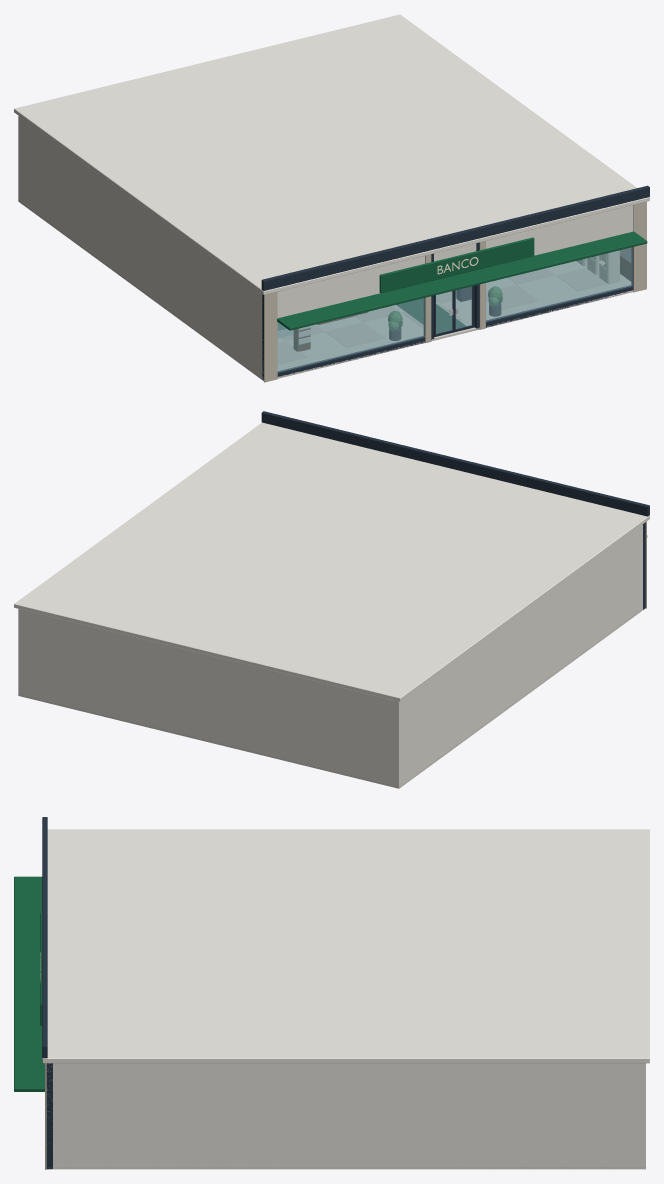
File: Local_Banco.fbx
3 renders of one model, top to bottom at view 1: azimuth 30°, elevation 25°; view 2: azimuth 150°, elevation 25°; view 3: azimuth 270°, elevation 25°, orthographic. The views are drawn at different scales.
Visible parts, largest first — view 1: Roof.001, WallSide.001, Floor, Storefront.001, Storefront, Canopy.001, Parapet.001, FloorTiles.001, StoreTop.001, StoreTop, SignBoard.001, Cladding (+7 smaller); view 2: Roof.001, WallBack.001, WallSide.001, Parapet.001, Floor; view 3: Roof.001, WallSide, Canopy.001, Floor, Parapet.001, Pillar, WallBack.001.
Boxes of the visible parts, bbox=[...] form: Roof.001: bbox=[14, 14, 649, 294]; WallSide.001: bbox=[18, 116, 263, 380]; Floor: bbox=[18, 200, 633, 380]; Storefront.001: bbox=[277, 298, 424, 372]; Storefront: bbox=[486, 247, 632, 321]; Canopy.001: bbox=[277, 231, 647, 330]; Parapet.001: bbox=[261, 185, 649, 290]; FloorTiles.001: bbox=[278, 268, 607, 364]; StoreTop.001: bbox=[277, 256, 424, 317]; StoreTop: bbox=[486, 205, 633, 255]; SignBoard.001: bbox=[379, 237, 534, 293]; Cladding: bbox=[264, 292, 277, 382]; Roof.001: bbox=[14, 422, 649, 701]; WallBack.001: bbox=[18, 609, 401, 788]; WallSide.001: bbox=[394, 524, 642, 786]; Parapet.001: bbox=[261, 411, 649, 516]; Floor: bbox=[18, 609, 642, 788]; Roof.001: bbox=[42, 829, 649, 1063]; WallSide: bbox=[47, 1063, 645, 1169]; Canopy.001: bbox=[14, 876, 44, 1091]; Floor: bbox=[51, 1167, 645, 1169]; Parapet.001: bbox=[42, 817, 47, 1058]; Pillar: bbox=[46, 1063, 52, 1169]; WallBack.001: bbox=[639, 1063, 645, 1169].
Bounding box in the file's own units: 20.1 × 5.1 × 23.55.
